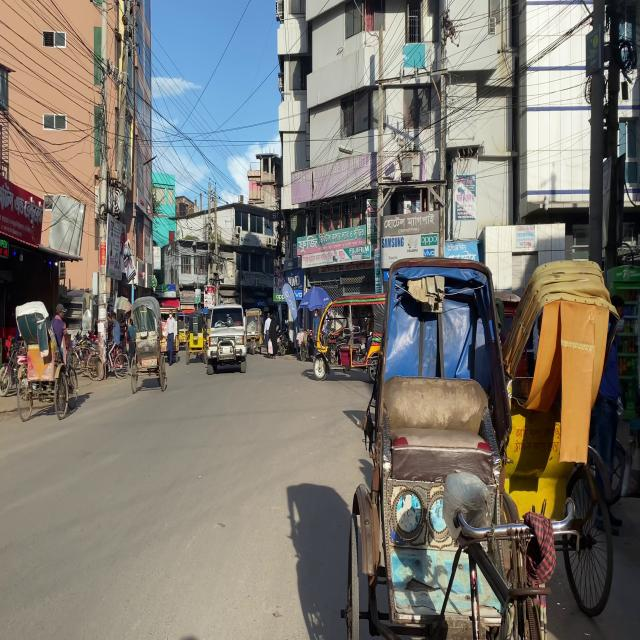car: (204, 303, 248, 377)
rickshaw: (386, 265, 538, 640), (509, 231, 616, 616), (19, 301, 74, 419), (321, 289, 382, 384), (130, 301, 165, 388), (188, 314, 203, 357)
